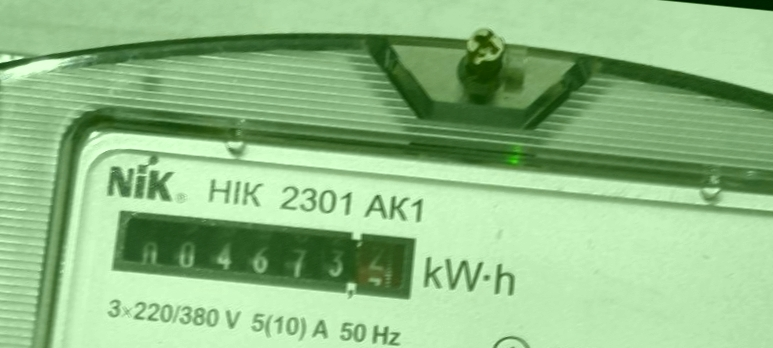0: (139, 235, 162, 266), (177, 236, 198, 269)
2: (367, 239, 390, 273)
3: (327, 244, 347, 280)
4: (215, 236, 236, 273)
6: (249, 239, 273, 275)
7: (286, 243, 312, 282)
screen: (108, 203, 423, 309)
